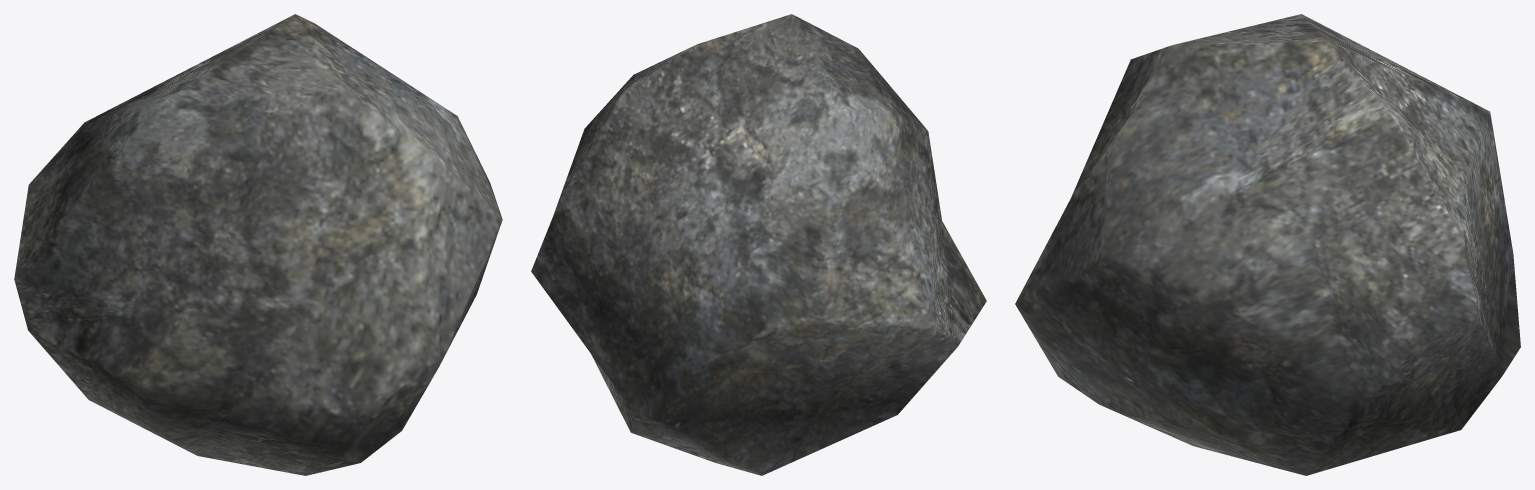
Rendered from FallingRock05.dae.
The picture shows the model from 3 angles, left to right: view 1: azimuth 30°, elevation 25°; view 2: azimuth 150°, elevation 25°; view 3: azimuth 270°, elevation 25°; orthographic projection. The views are drawn at different scales.
Visible parts, largest first — view 1: FallingRock03; view 2: FallingRock03; view 3: FallingRock03.
Boxes of the visible parts, x1=… form: FallingRock03: x1=14, y1=14, x2=502, y2=475; FallingRock03: x1=531, y1=14, x2=986, y2=475; FallingRock03: x1=1015, y1=14, x2=1520, y2=475.
Size of the model in its own units: 51.92 by 50.12 by 47.21.
Materials: 1 (1 with a texture image).
